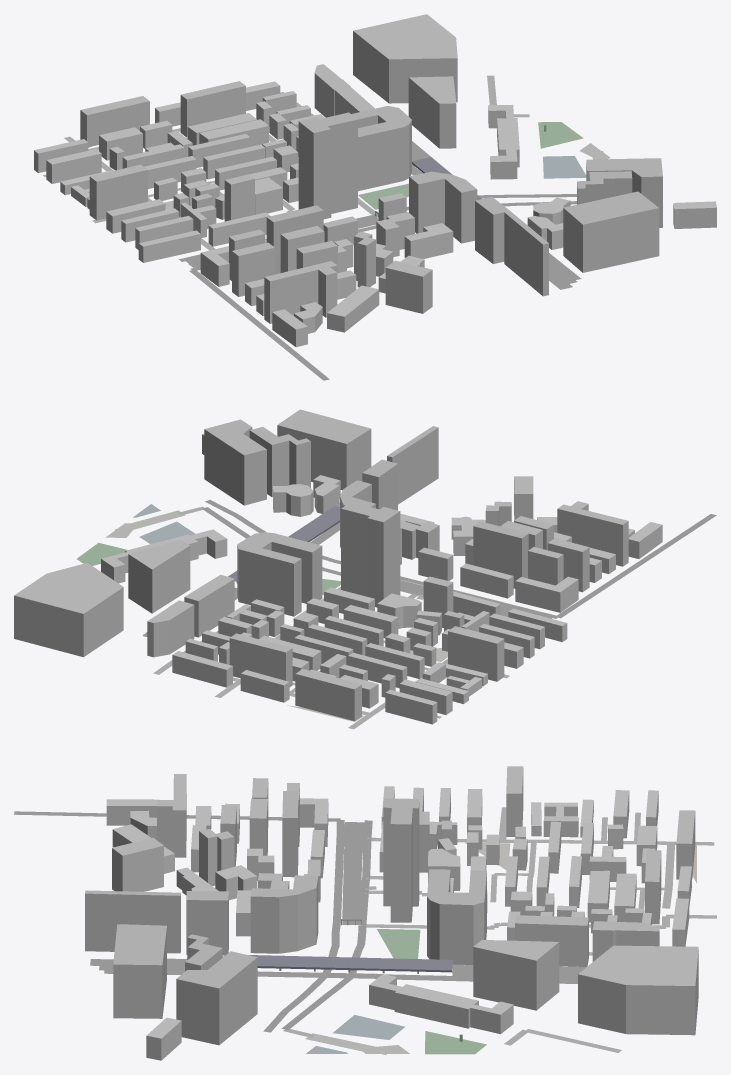
3 renders of one model, top to bottom at view 1: azimuth 30°, elevation 25°; view 2: azimuth 150°, elevation 25°; view 3: azimuth 270°, elevation 25°, orthographic. The views are drawn at different scales.
Size of the model in its own units: 528 by 95.49 by 612.
